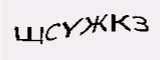З: (37, 18, 52, 41)
Л: (53, 16, 74, 40)
Т: (100, 13, 121, 34)
У: (73, 15, 90, 40)
Э: (90, 13, 101, 34)
